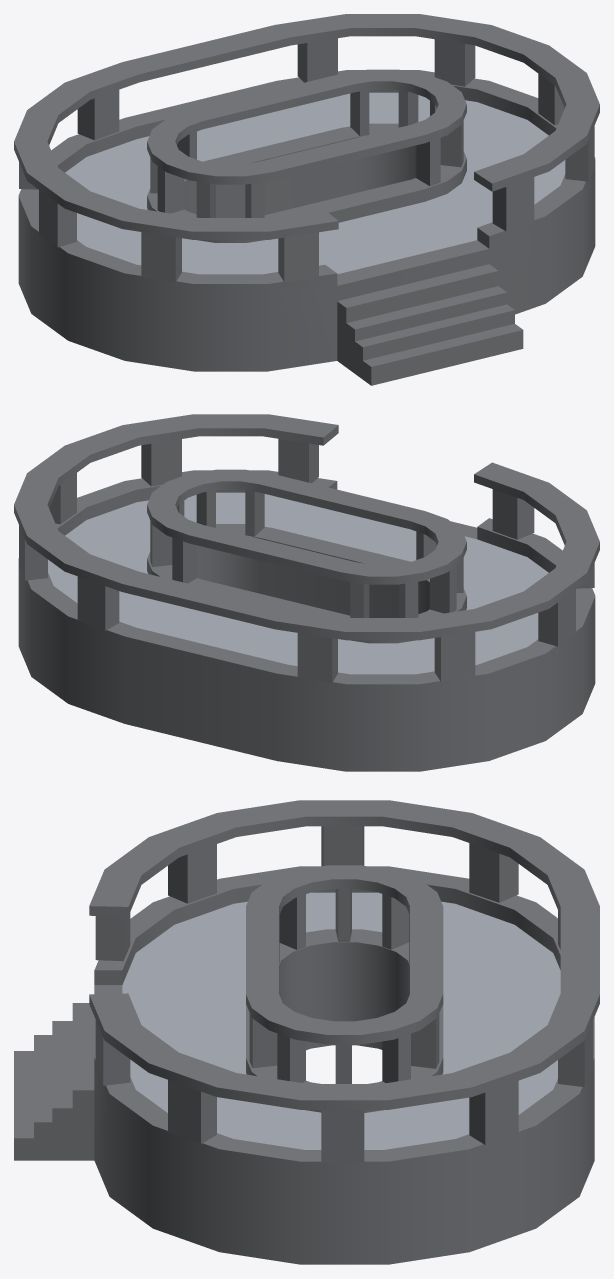
The model's file is Terrace_1.fbx.
The picture shows the model from 3 angles, top to bottom: view 1: azimuth 30°, elevation 25°; view 2: azimuth 150°, elevation 25°; view 3: azimuth 270°, elevation 25°; orthographic projection. The views are drawn at different scales.
Parts seen in each view (by area): view 1: Terrace_1; view 2: Terrace_1; view 3: Terrace_1.
Boxes of the visible parts, left/top/right/bottom form: Terrace_1: left=14, top=14, right=599, bottom=385; Terrace_1: left=14, top=414, right=599, bottom=771; Terrace_1: left=14, top=800, right=599, bottom=1264.
Bounding box in the file's own units: 425 × 110 × 350.
